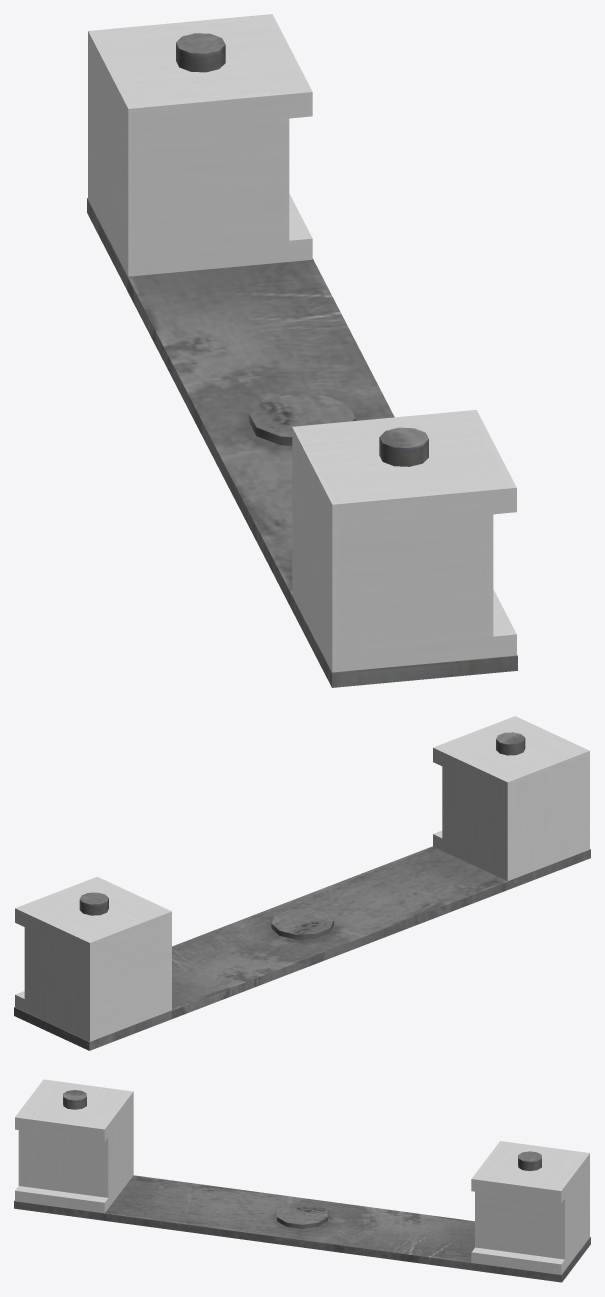
The model's file is tool_pipe_bender_crossbow_nozzle_06.glb.
3 renders of one model, top to bottom at view 1: azimuth 30°, elevation 25°; view 2: azimuth 150°, elevation 25°; view 3: azimuth 270°, elevation 25°, orthographic. The views are drawn at different scales.
Parts seen in each view (by area): view 1: tool_pipe_bender_crossbow_nozzle_06; view 2: tool_pipe_bender_crossbow_nozzle_06; view 3: tool_pipe_bender_crossbow_nozzle_06.
Part boxes in pixels (bbox=[...]): tool_pipe_bender_crossbow_nozzle_06: bbox=[87, 14, 517, 687]; tool_pipe_bender_crossbow_nozzle_06: bbox=[14, 716, 590, 1050]; tool_pipe_bender_crossbow_nozzle_06: bbox=[14, 1079, 590, 1282].
Bounding box in the file's own units: 0.1131 × 0.0473 × 0.2458.
Materials: 1 (1 with a texture image).
